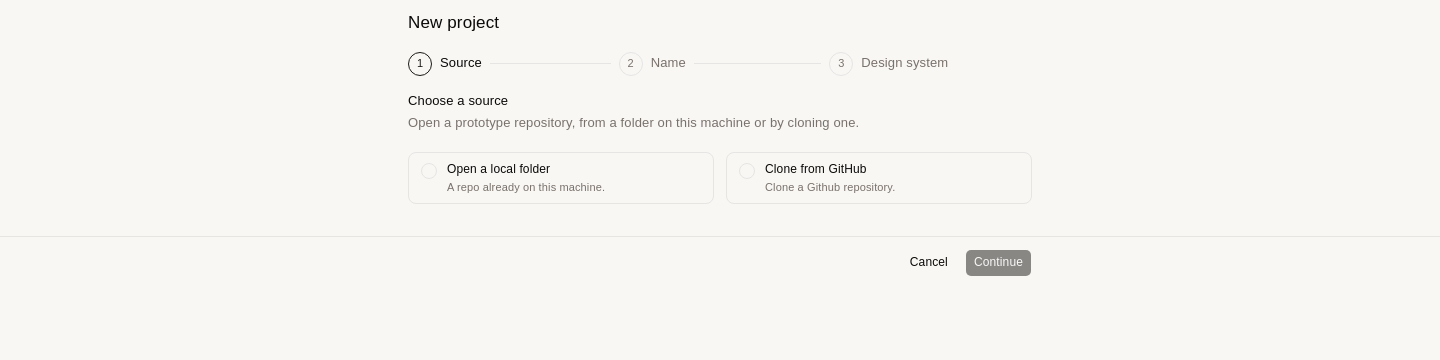
Scenario: NewProjectPage › shows no source form and a dead submit until a source is picked
This screenshot has width=1440, height=360.
Expected: the button with test id "new-project-local-continue" is disabled, [965, 248, 1032, 276]
Click the label with test id "new-project-local". click: [561, 178]
box: [408, 152, 714, 204]
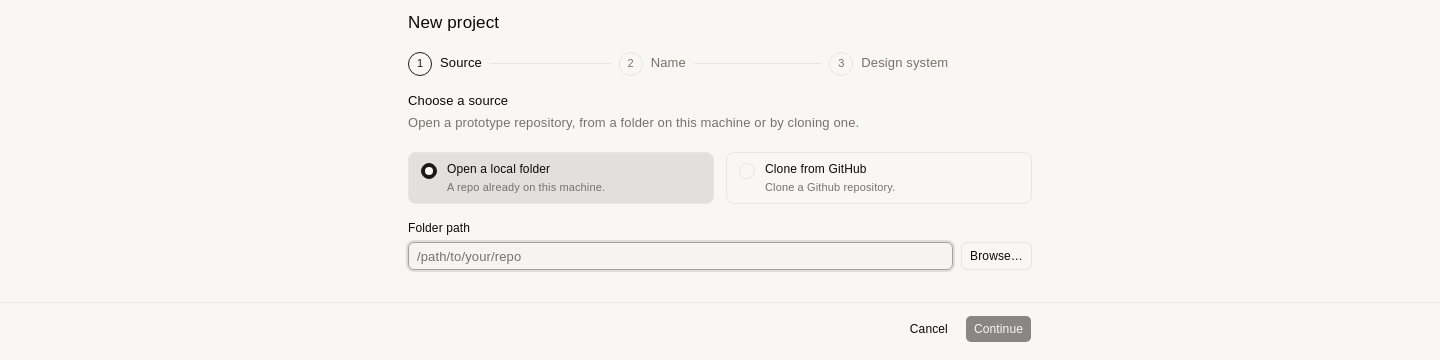
Expected: the button with test id "new-project-local-continue" is disabled, [965, 315, 1032, 343]
Expected: the form with test id "new-project-local-step" is shown, [408, 220, 1032, 270]
